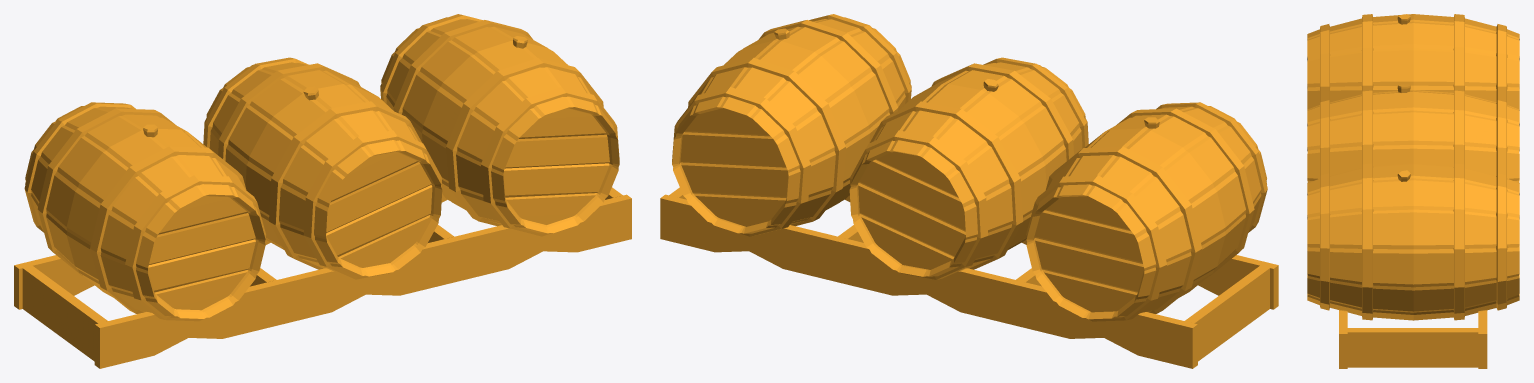
The model's file is SM_Barrel_Stand_3m.fbx.
The picture shows the model from 3 angles, left to right: view 1: azimuth 30°, elevation 25°; view 2: azimuth 150°, elevation 25°; view 3: azimuth 270°, elevation 25°; orthographic projection. The views are drawn at different scales.
Visible parts, largest first — view 1: barrel-stand-3m; view 2: barrel-stand-3m; view 3: barrel-stand-3m.
Boxes of the visible parts, <box> form: barrel-stand-3m: <box>14,14,631,368</box>; barrel-stand-3m: <box>660,14,1278,368</box>; barrel-stand-3m: <box>1307,14,1519,368</box>.
Size of the model in its own units: 3 by 1.04 by 1.2.
